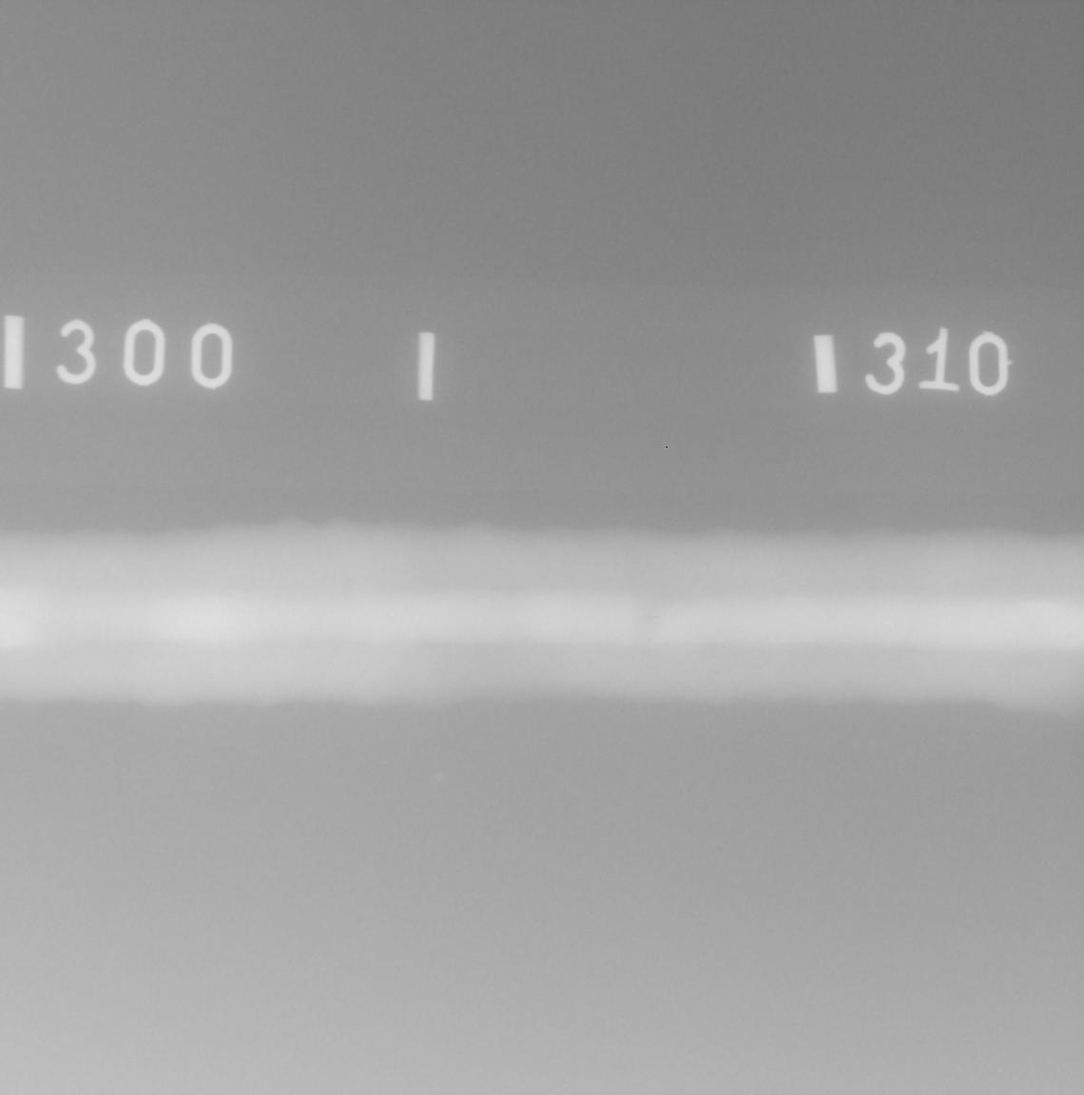Inclusion: (1064, 633, 1075, 638)
Pore/Porosity: (17, 611, 25, 618), (652, 615, 659, 620)
